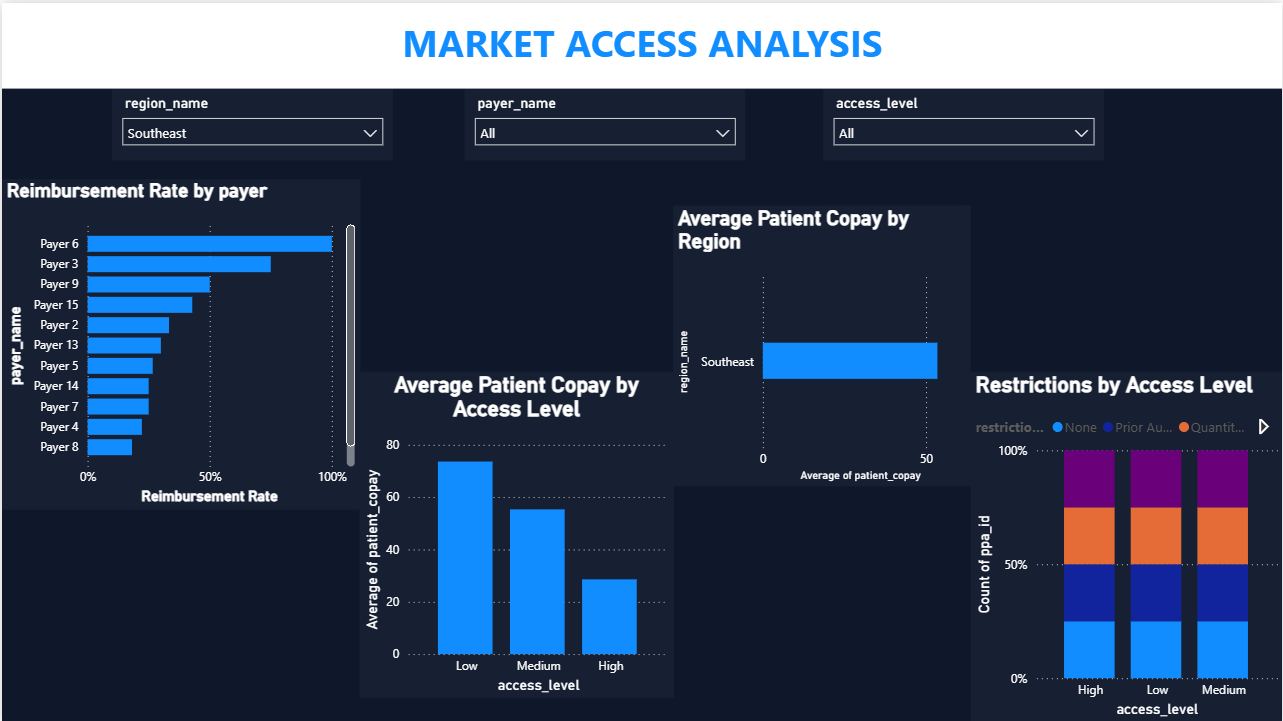

This screenshot's page, from the dashboard's own definition file:
{"tool":"powerbi","page":{"name":"Page 2","canvas":[1280,720],"ordinal":1},"visuals":[{"type":"clusteredBarChart","title":"Reimbursement Rate by payer","fields":{"Category":["public payers.payer_name"],"Y":["public market_access.Reimbursement Rate"]},"box":[0,176,358,330],"z":0},{"type":"clusteredBarChart","title":"Average Patient Copay by Region","fields":{"Category":["public regions.region_name"],"Y":["Avg(public market_access.patient_copay)"]},"box":[671.4,202.4,297.6,281],"z":1},{"type":"clusteredColumnChart","title":"Average Patient Copay by Access Level","fields":{"Category":["public market_access.access_level"],"Y":["Avg(public market_access.patient_copay)"]},"box":[357.1,369,314.3,326.2],"z":2},{"type":"hundredPercentStackedColumnChart","title":"Restrictions by Access Level","fields":{"Category":["public market_access.access_level"],"Y":["CountNonNull(public payer_product_access.ppa_id)"],"Series":["public market_access.restrictions"]},"box":[969,369,311.9,350],"z":3},{"type":"slicer","fields":{"Values":["public regions.region_name"]},"box":[109.5,85.7,281,71.4],"z":4},{"type":"slicer","fields":{"Values":["public payers.payer_name"]},"box":[461.9,85.7,281,71.4],"z":5},{"type":"slicer","fields":{"Values":["public market_access.access_level"]},"box":[821.4,85.7,281,71.4],"z":6},{"type":"textbox","box":[0,0,1281,85.7],"z":7}]}

Visuals, with their boxes in screenshot pixels (x1, y1, x2, y2), scaled from the page's 1280x720 canvas onto the 1283x721 screenshot:
"Reimbursement Rate by payer" clusteredBarChart: x1=0, y1=176, x2=359, y2=507
"Average Patient Copay by Region" clusteredBarChart: x1=673, y1=203, x2=971, y2=484
"Average Patient Copay by Access Level" clusteredColumnChart: x1=358, y1=370, x2=673, y2=696
"Restrictions by Access Level" hundredPercentStackedColumnChart: x1=971, y1=370, x2=1282, y2=720
slicer - public regions.region_name: x1=110, y1=86, x2=391, y2=157
slicer - public payers.payer_name: x1=463, y1=86, x2=745, y2=157
slicer - public market_access.access_level: x1=823, y1=86, x2=1105, y2=157
textbox: x1=0, y1=0, x2=1282, y2=86
